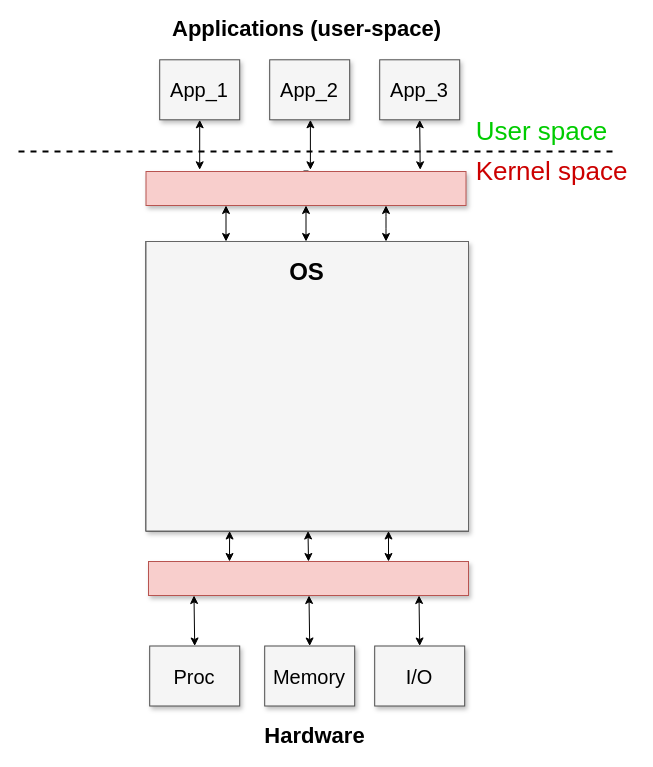
This 653x767 diagram has some shape labels left out. Each missing label, with the centre of its shape:
Drivers: point 309,579
System Calls: point 306,189
